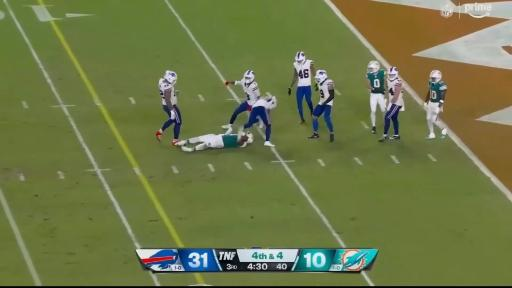Helmet: (164, 71, 177, 84), (315, 70, 327, 83), (295, 51, 306, 65), (430, 70, 441, 82), (368, 61, 379, 73), (388, 67, 398, 80), (244, 70, 254, 82), (245, 131, 254, 144)
Jersey: (235, 79, 260, 105), (294, 60, 313, 86), (159, 78, 177, 105), (367, 70, 385, 94), (388, 78, 403, 106), (319, 79, 334, 105), (429, 82, 446, 102), (253, 98, 275, 109), (222, 135, 238, 147)
Player: (223, 70, 260, 134), (288, 52, 315, 123), (238, 96, 276, 146), (156, 71, 181, 145), (379, 67, 403, 142), (310, 70, 334, 142), (424, 70, 446, 139), (179, 132, 253, 151), (367, 61, 386, 133)
